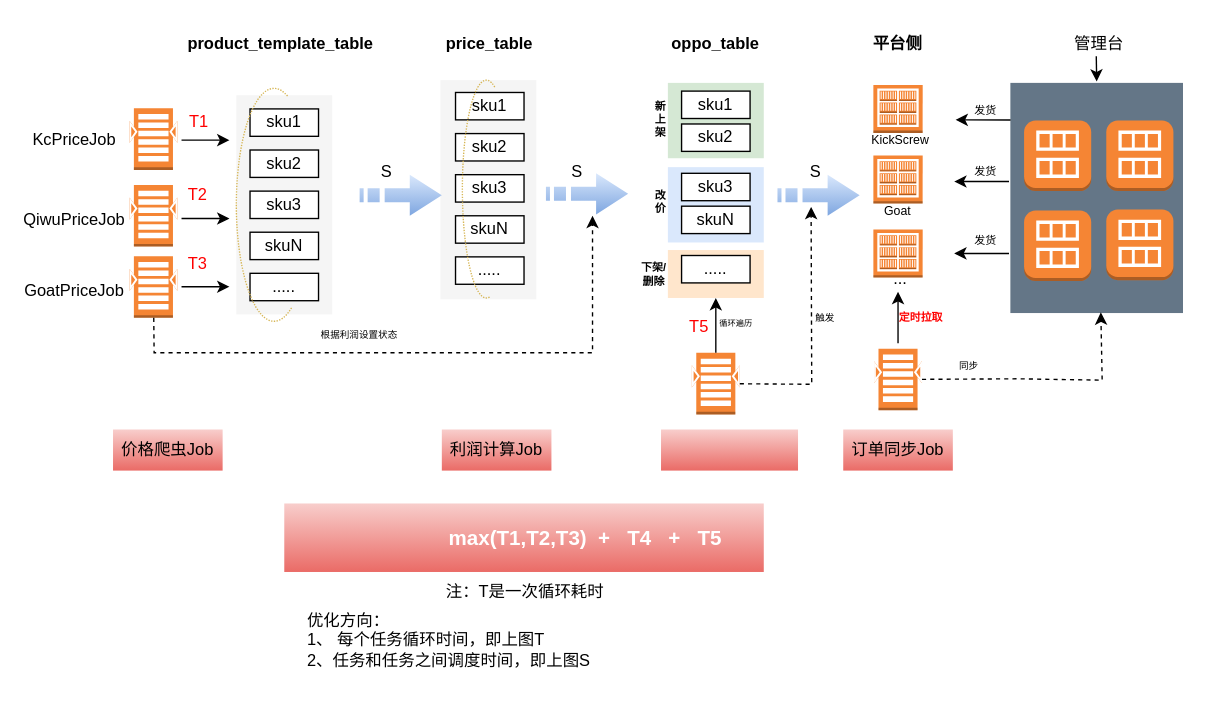
Image size: 1206x704. Some labels were removed from this diagram. Here are the shapes that lost their labels. From the top down, the box of each, then its label:
(660, 429, 797, 470): 多平台 上下架Job
(284, 503, 763, 571): 理论上一双鞋 操作最大耗时：
